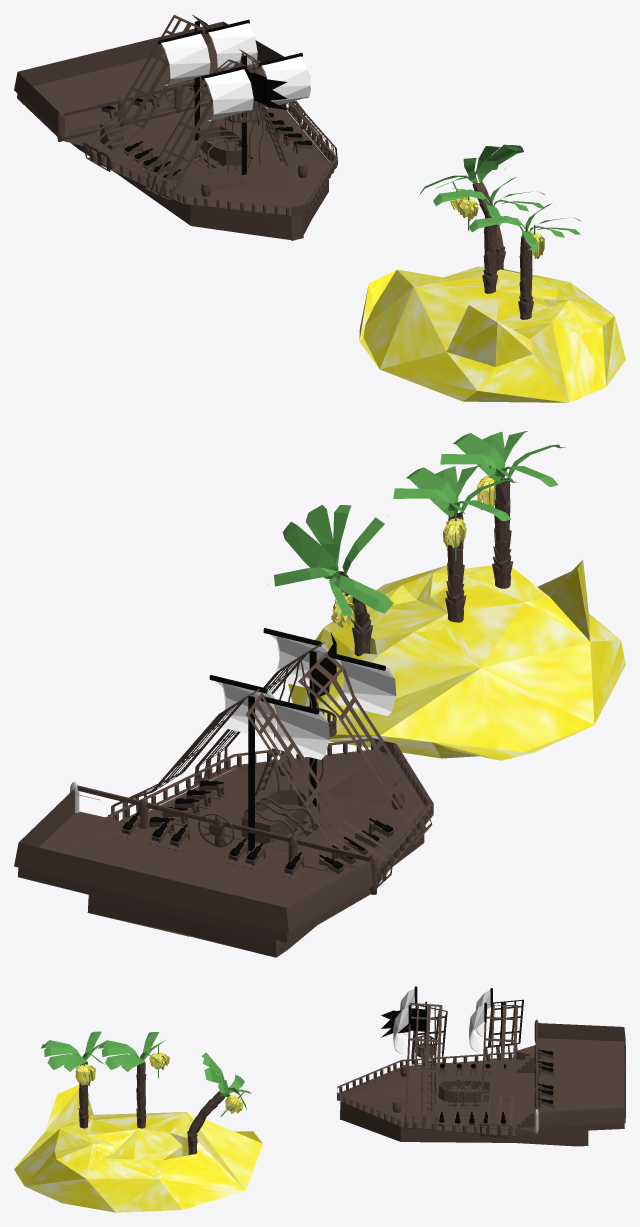
The model's file is SchiffVR_normale.fbx.
3 renders of one model, top to bottom at view 1: azimuth 30°, elevation 25°; view 2: azimuth 150°, elevation 25°; view 3: azimuth 270°, elevation 25°, orthographic. The views are drawn at different scales.
Visible parts, largest first — view 1: Landschaft_1, Schiff, segelhalter4, Segelhalter1, Röhre_4, Röhre_8, Röhre, Röhre_6, Blätter, Boot, Blätter_6, Baumstamm_6 (+6 smaller); view 2: Landschaft_1, Schiff, Blätter, Segelhalter1, segelhalter4, Blätter_4, Blätter_6, Röhre_8, Röhre_4, Boot, Baumstamm_6, Zylinder_3_10 (+8 smaller); view 3: Landschaft_1, Schiff, Segelhalter3, Segelhalter2, Blätter_6, Blätter_4, Boot, Blätter, Baumstamm, segelhalter4, Flagge, Baumstamm_4 (+6 smaller).
Boxes of the visible parts, <box> form: Landschaft_1: <box>359,266,625,402</box>; Schiff: <box>14,21,330,240</box>; segelhalter4: <box>82,15,201,171</box>; Segelhalter1: <box>145,59,246,199</box>; Röhre_4: <box>161,33,210,85</box>; Röhre_8: <box>204,69,253,121</box>; Röhre: <box>208,23,257,72</box>; Röhre_6: <box>261,56,310,108</box>; Blätter: <box>419,144,523,194</box>; Boot: <box>198,126,248,165</box>; Blätter_6: <box>469,203,580,251</box>; Baumstamm_6: <box>518,235,533,319</box>; Landschaft_1: <box>288,560,625,760</box>; Schiff: <box>14,738,424,957</box>; Blätter: <box>267,504,393,615</box>; Segelhalter1: <box>298,651,432,844</box>; segelhalter4: <box>245,692,393,887</box>; Blätter_4: <box>393,465,518,521</box>; Blätter_6: <box>440,431,565,486</box>; Röhre_8: <box>335,659,396,715</box>; Röhre_4: <box>269,703,329,759</box>; Boot: <box>241,790,306,843</box>; Baumstamm_6: <box>492,478,513,588</box>; Zylinder_3_10: <box>77,785,369,861</box>; Landschaft_1: <box>14,1085,262,1212</box>; Schiff: <box>337,1023,625,1146</box>; Segelhalter3: <box>479,1004,517,1137</box>; Segelhalter2: <box>404,1003,442,1130</box>; Blätter_6: <box>40,1031,108,1071</box>; Blätter_4: <box>98,1032,165,1071</box>; Boot: <box>438,1080,489,1102</box>; Blätter: <box>202,1052,251,1109</box>; Baumstamm: <box>187,1091,224,1154</box>; segelhalter4: <box>485,999,523,1060</box>; Flagge: <box>381,1008,425,1037</box>; Baumstamm_4: <box>136,1061,146,1128</box>.
Bounding box in the file's own units: 1116 × 633 × 2487.
6 materials, 3 textured.
